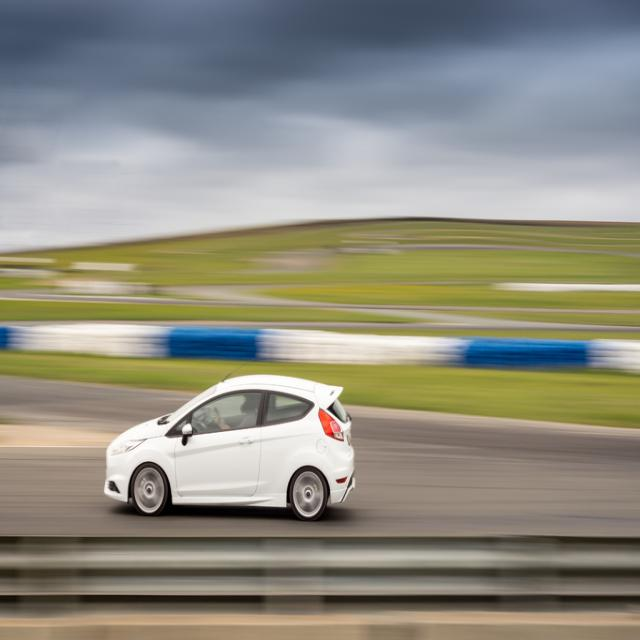car: (104, 377, 359, 527)
